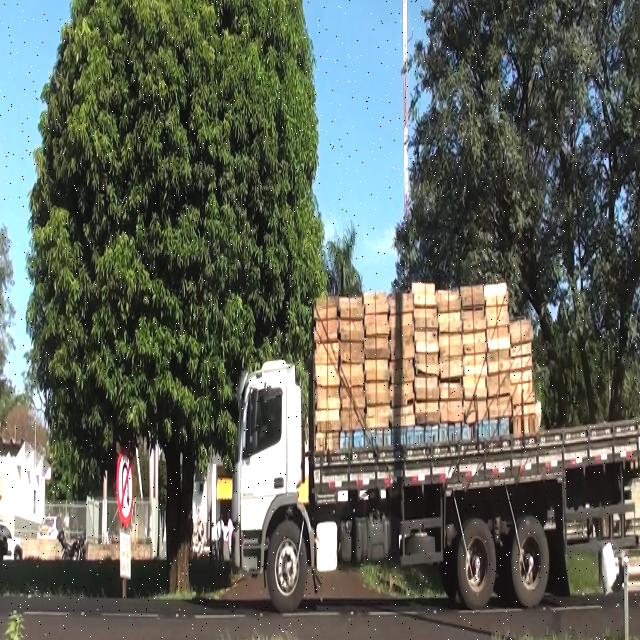-axle: (264, 521, 307, 606), (509, 512, 548, 602), (456, 518, 495, 608)
